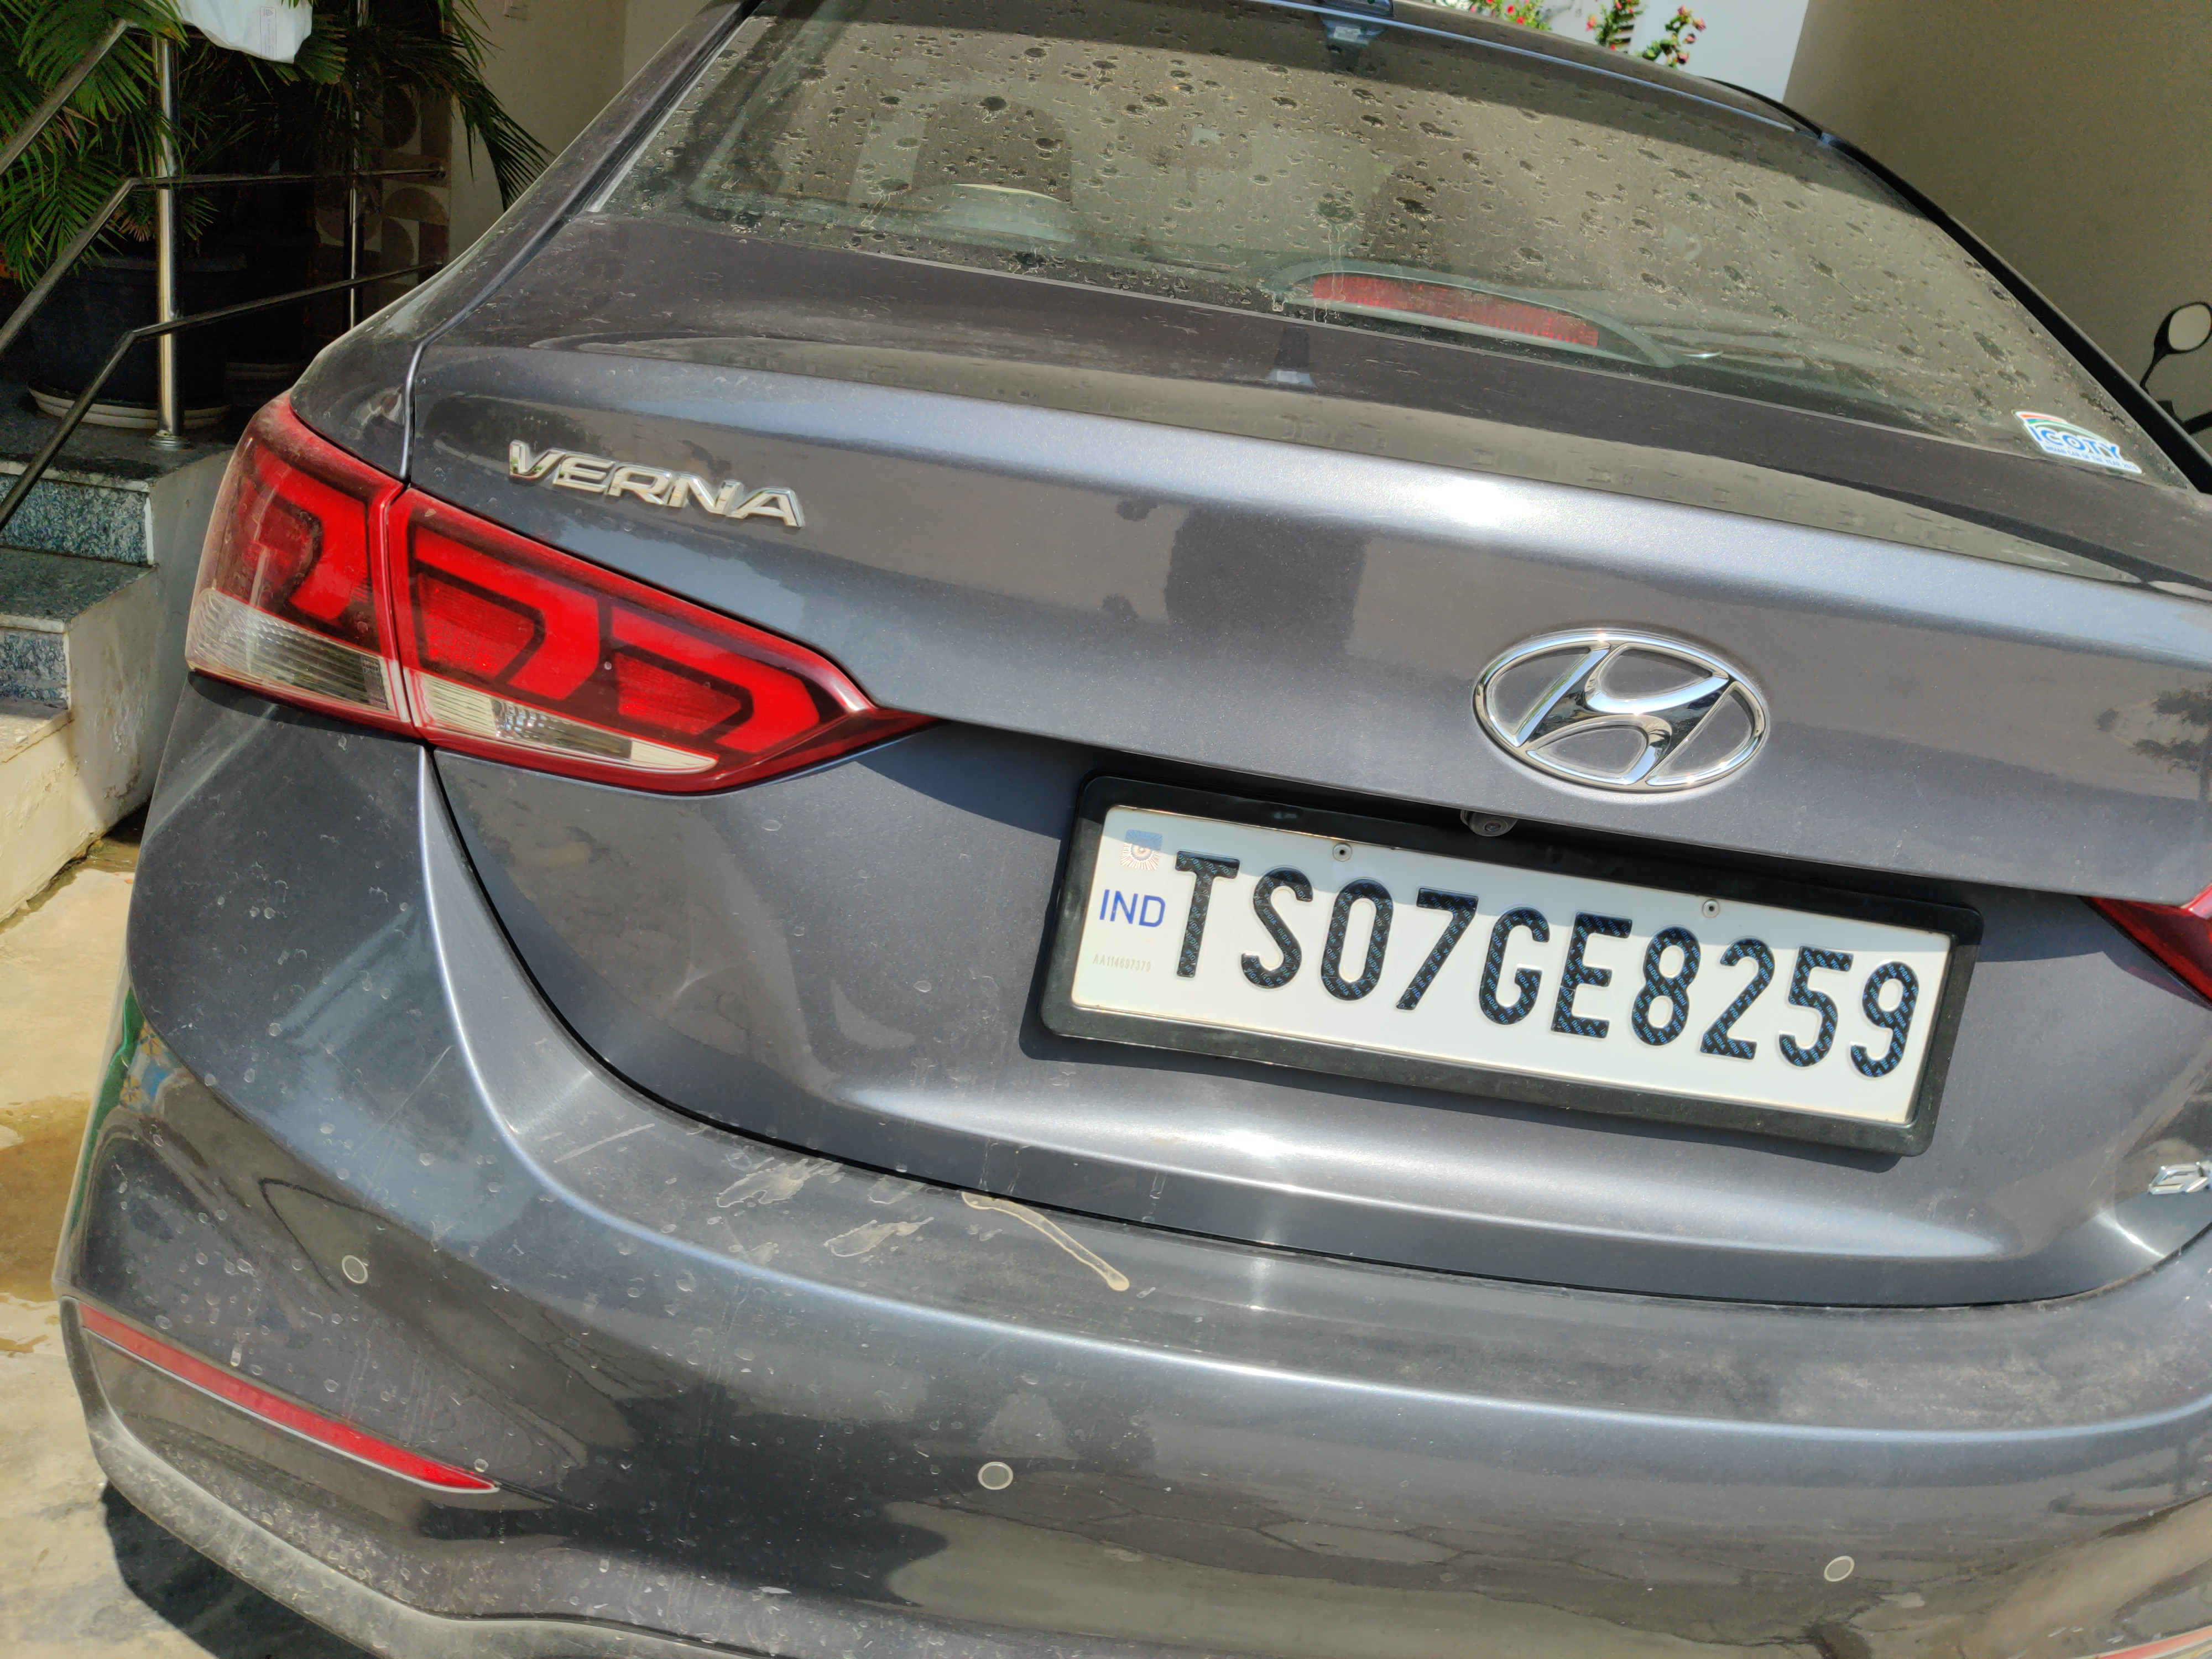plate: (1005, 734, 1995, 1191)
